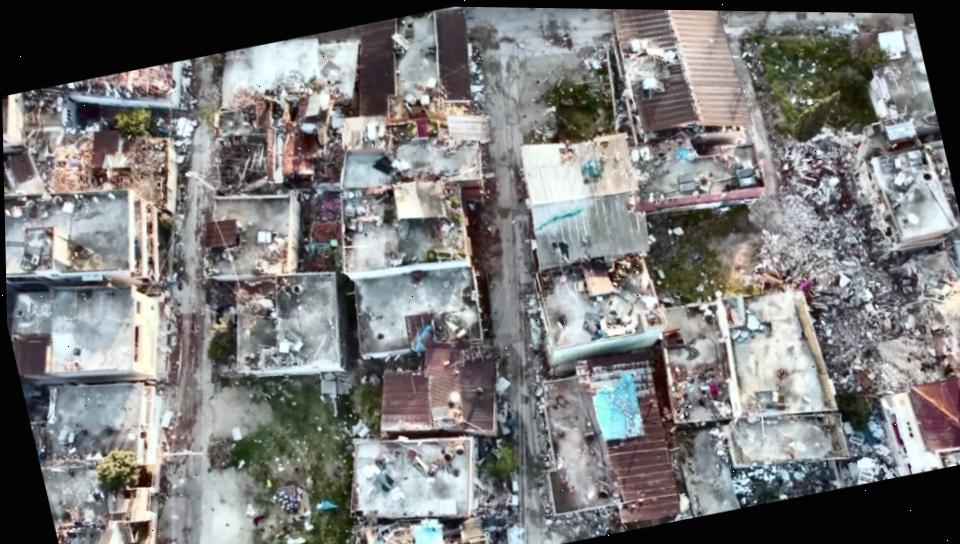kapali: (756, 155, 902, 487)
